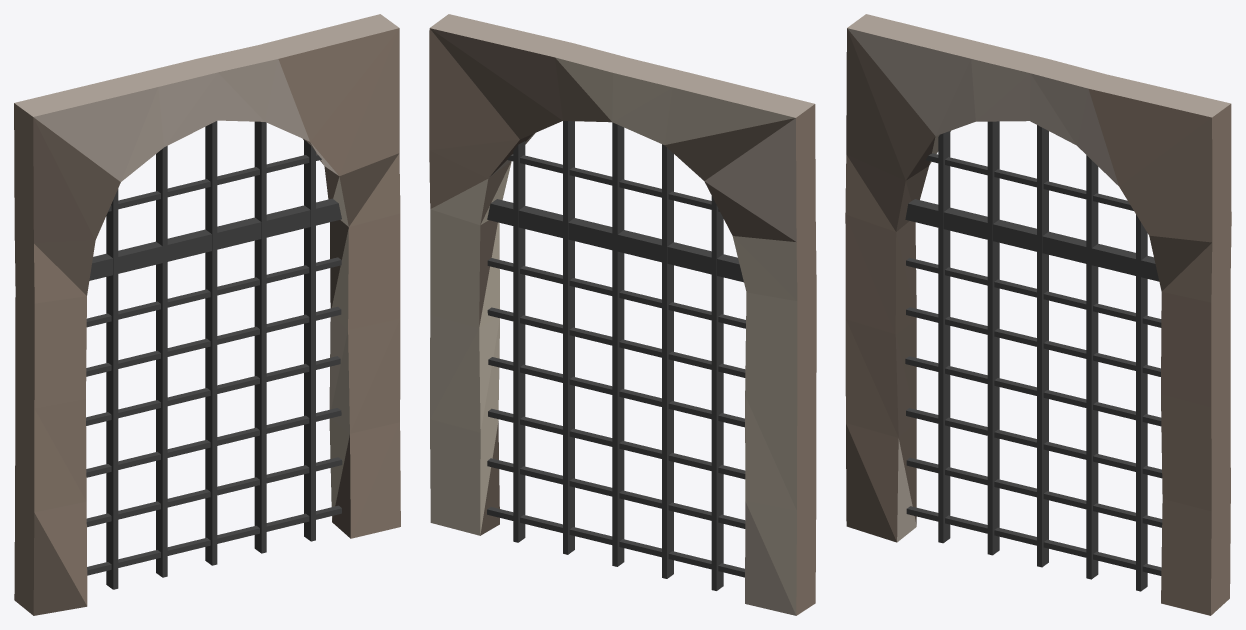
The model's file is RG-Dungeon_Arch-cage.fbx.
3 views of the same model, side by side, from view 1: azimuth 30°, elevation 25°; view 2: azimuth 150°, elevation 25°; view 3: azimuth 330°, elevation 25° (orthographic).
Visible parts, largest first — view 1: RG-Dungeon_Arch-cage; view 2: RG-Dungeon_Arch-cage; view 3: RG-Dungeon_Arch-cage.
Part boxes in pixels (bbox=[...]): RG-Dungeon_Arch-cage: bbox=[14, 14, 400, 615]; RG-Dungeon_Arch-cage: bbox=[429, 14, 816, 615]; RG-Dungeon_Arch-cage: bbox=[845, 14, 1231, 615].
Bounding box in the file's own units: 20 × 26.16 × 2.07.
